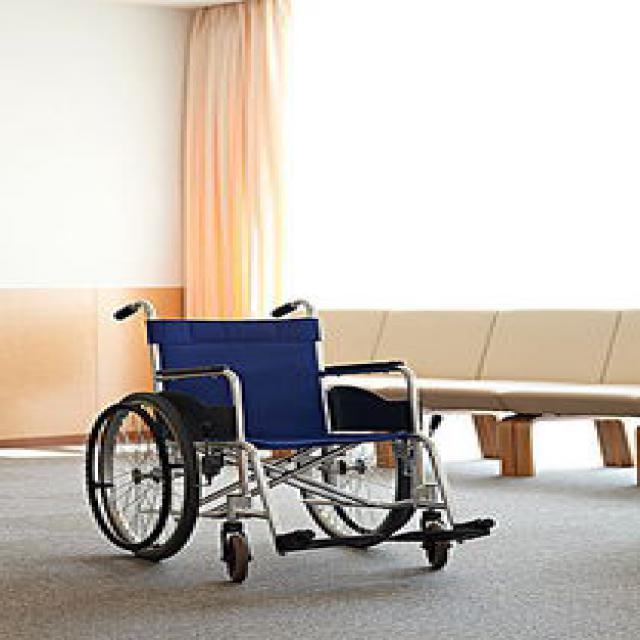wheelchairs: (89, 299, 491, 580)
